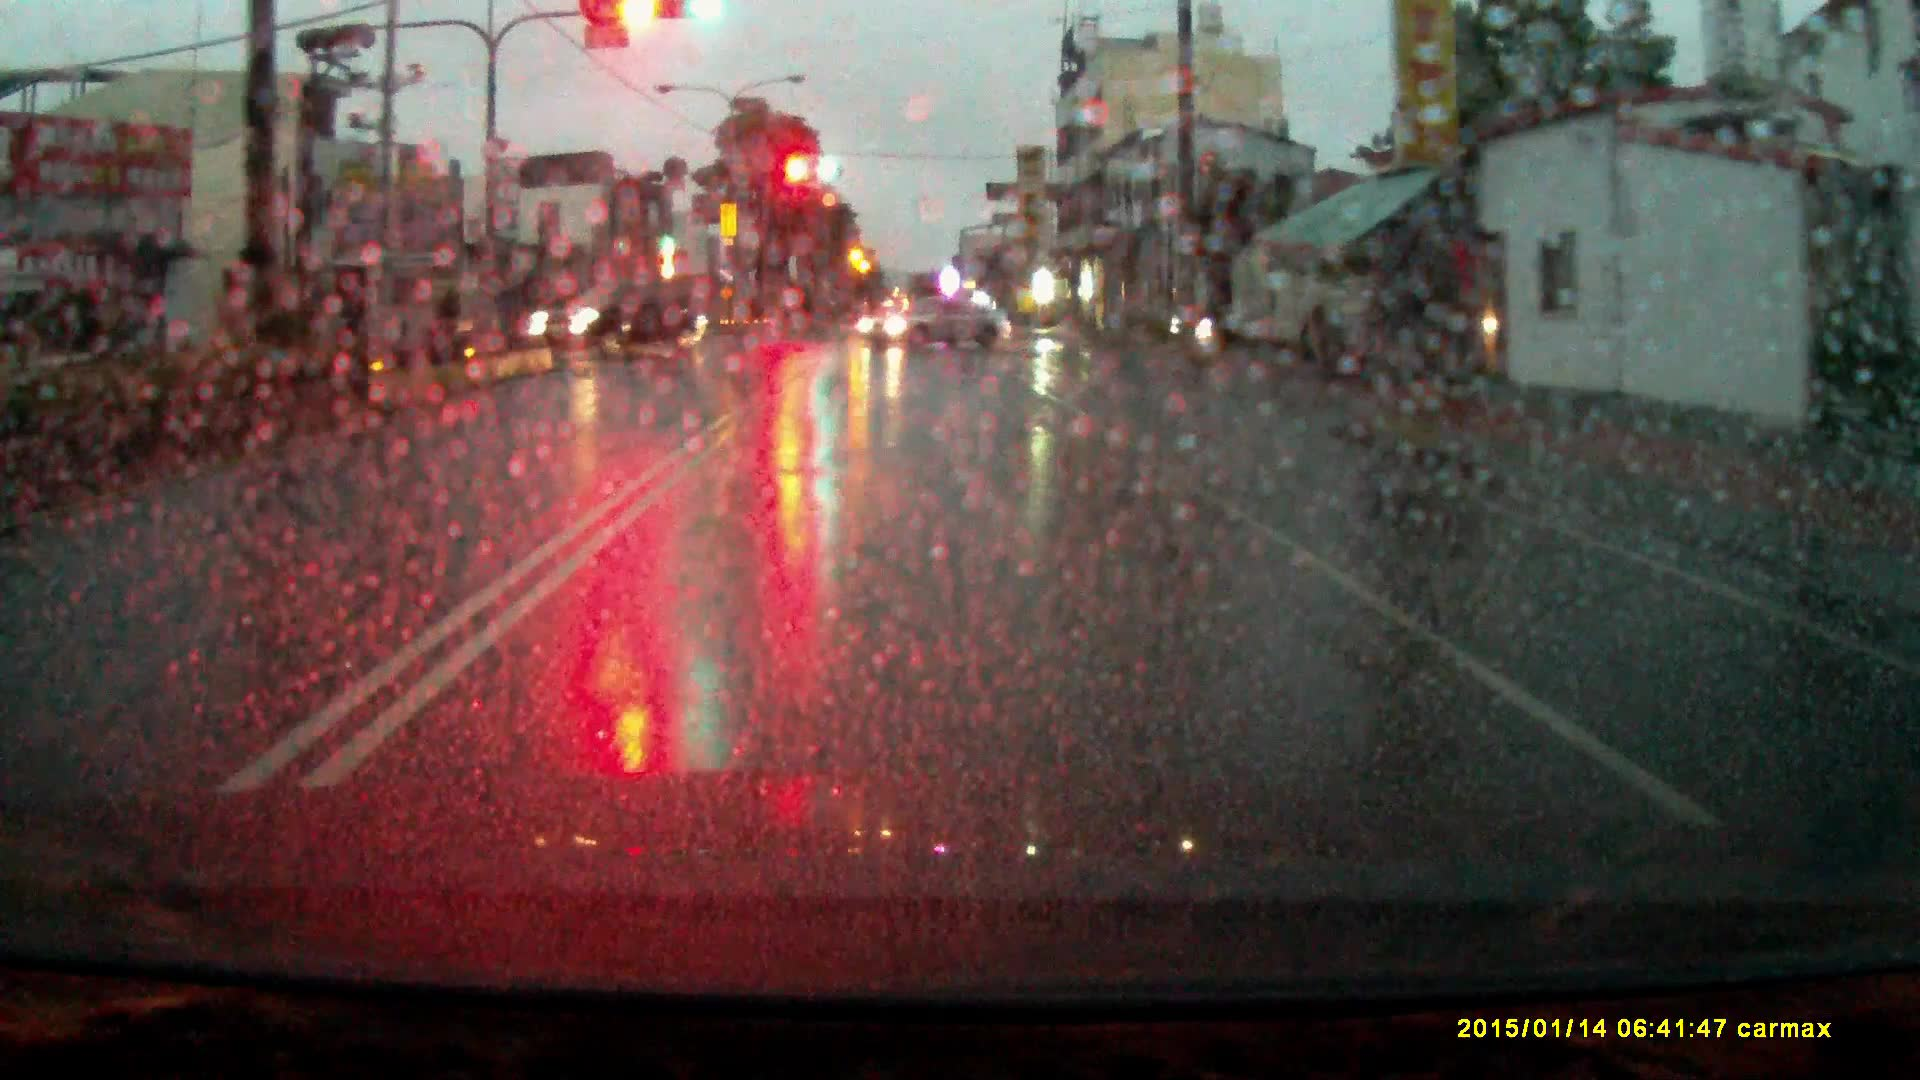vehicle: (527, 276, 709, 361), (860, 289, 1014, 347)
